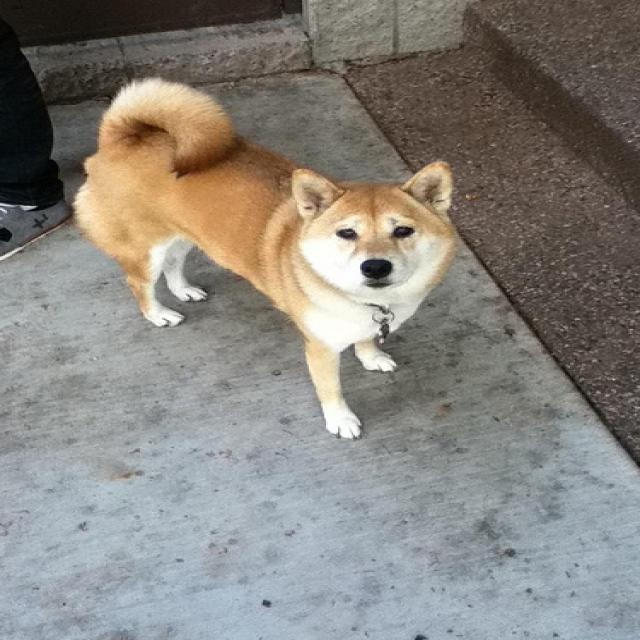dog: (287, 160, 449, 292)
